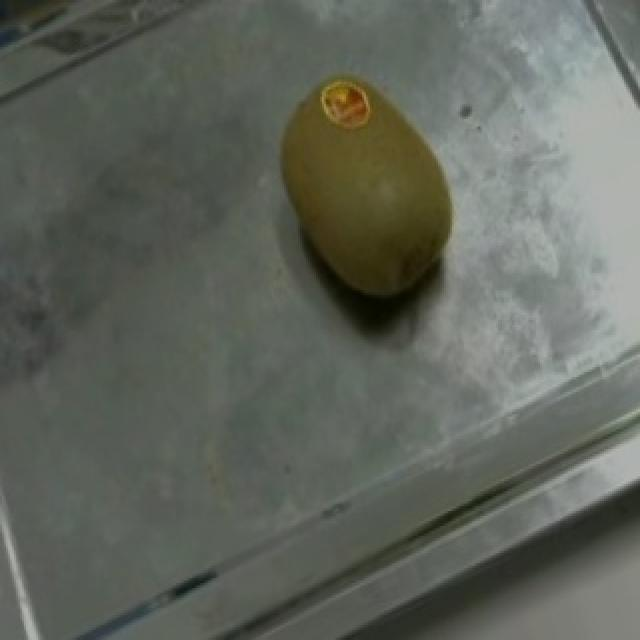Fruit: (234, 49, 494, 340)
